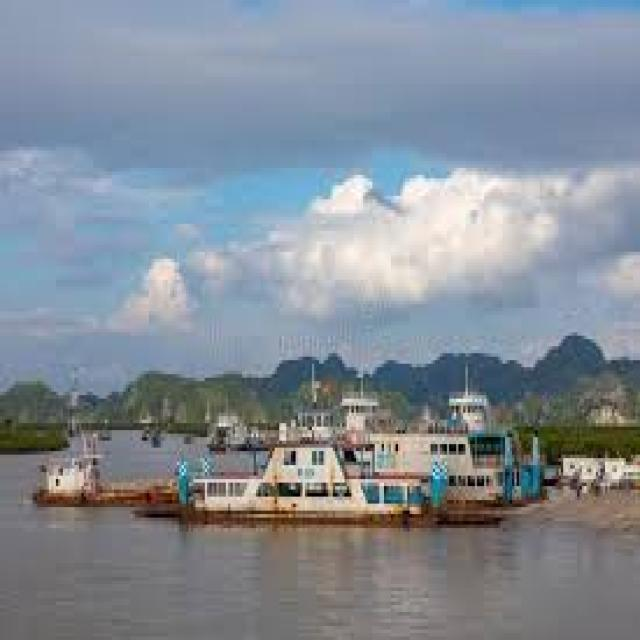houseboat: (169, 440, 417, 528)
